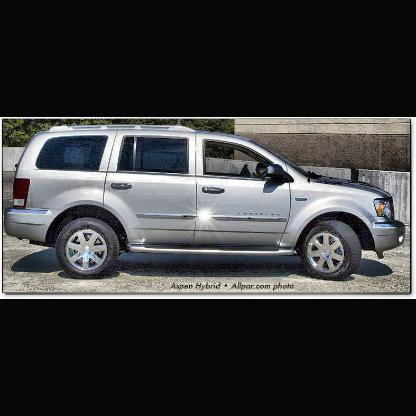Chrysler Aspen SUV 2009: (5, 123, 407, 279)
